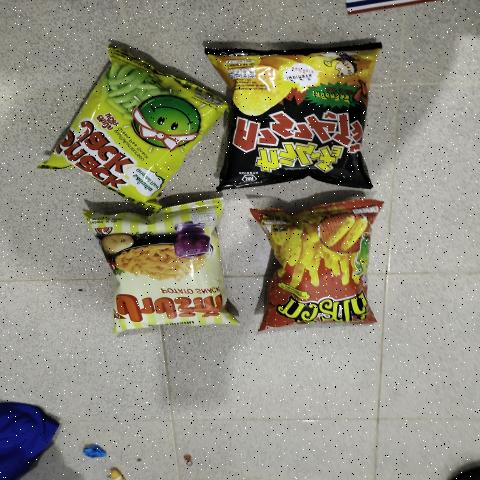karamujo: (249, 48, 360, 178)
paprika: (111, 214, 225, 327)
snack_jack: (57, 73, 202, 174)
twisco: (270, 202, 367, 325)
